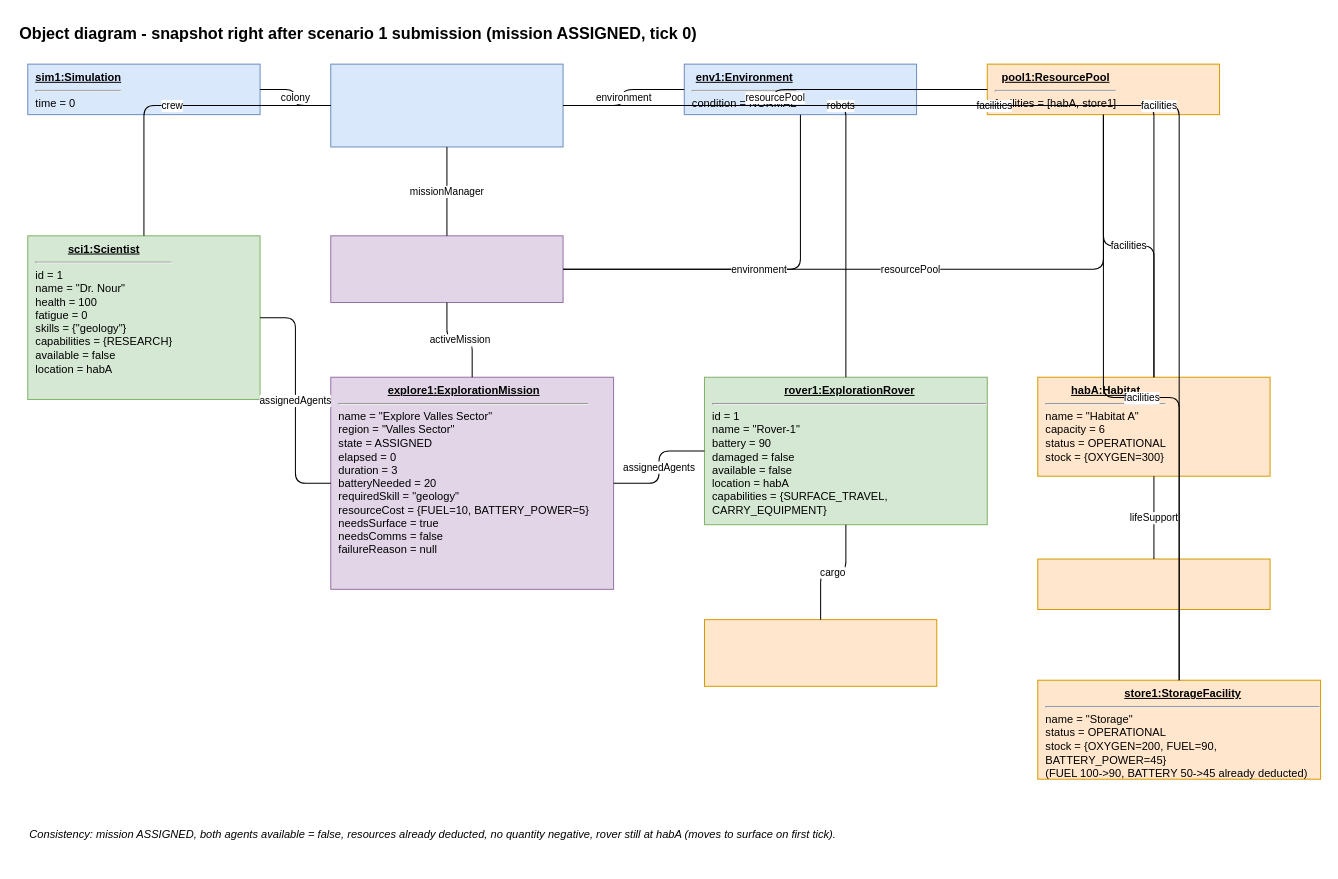
The diagram is 1338 pixels wide and 879 high, and some of its shapes have lost their labels. The shapes that lost their labels are listed below. From the top down, each one's centre as x and y in pixels, then its label:
point (446, 105): colony1:MarsColony crew = [sci1] robots = [rover1] facilities = [habA, store1]
point (446, 268): mgr1:MissionManager activeMission = explore1 history = []
point (1153, 584): ls1:LifeSupportSystem working = true
point (820, 652): drill1:Equipment name = "Drill" working = true
